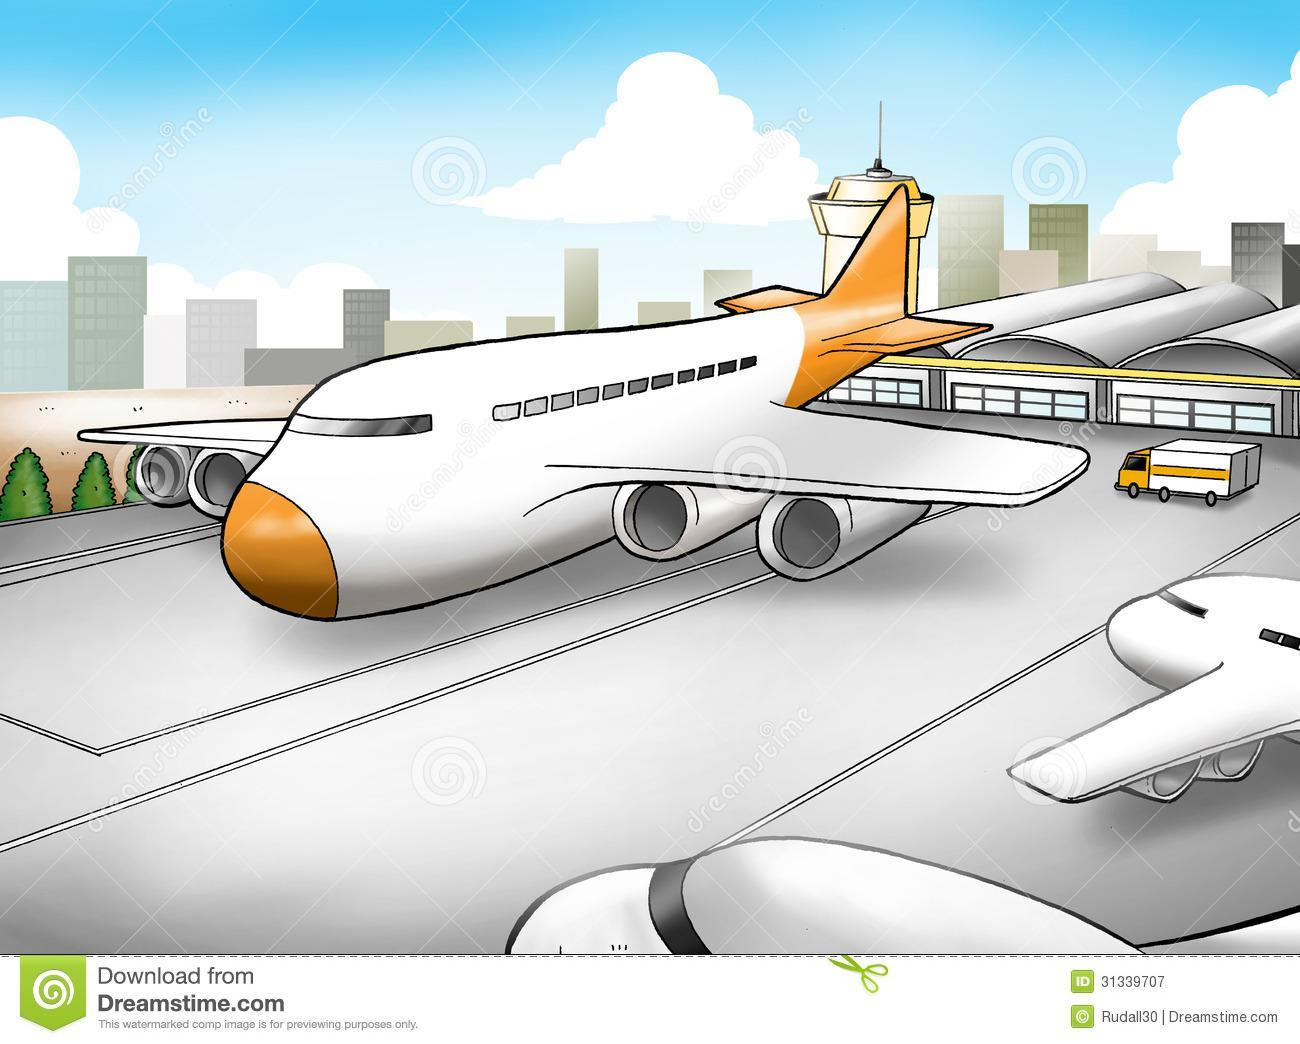aeroplane: (86, 199, 1073, 639)
car: (1095, 419, 1264, 519)
